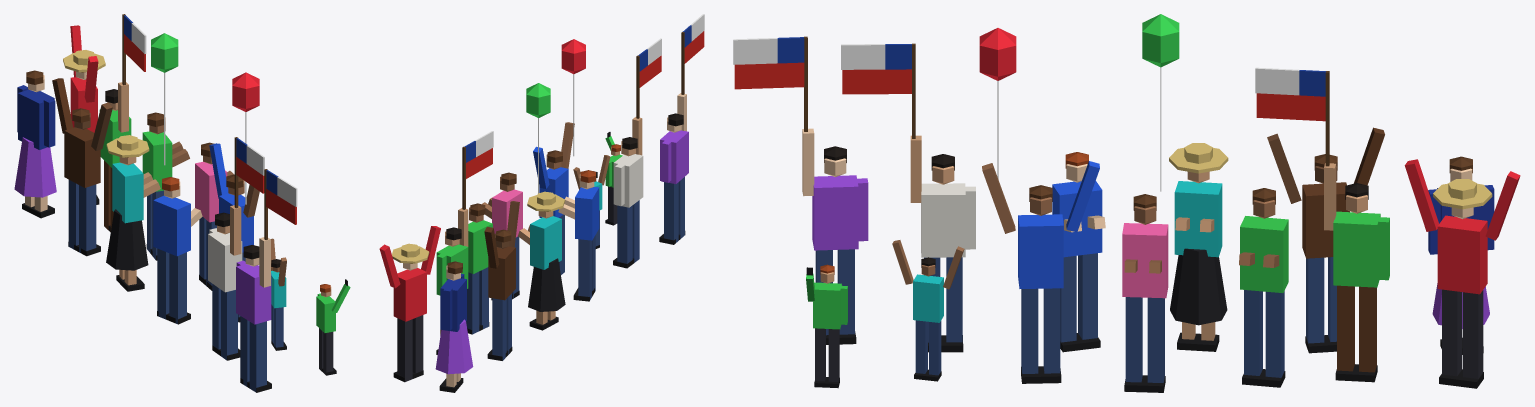
File: publico_fiesta_3.obj
3 views of the same model, side by side, from view 1: azimuth 30°, elevation 25°; view 2: azimuth 150°, elevation 25°; view 3: azimuth 270°, elevation 25° (orthographic). The views are drawn at different scales.
Parts seen in each view (by area): view 1: publico_fiesta_3; view 2: publico_fiesta_3; view 3: publico_fiesta_3.
Boxes of the visible parts, x1,y1,x2,y2 form: publico_fiesta_3: [14, 14, 350, 392]; publico_fiesta_3: [379, 14, 704, 392]; publico_fiesta_3: [733, 14, 1520, 392].
Size of the model in its own units: 1.38 by 3.09 by 6.39.
